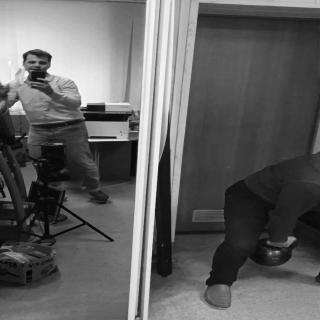kettlebell: (252, 235, 299, 268)
